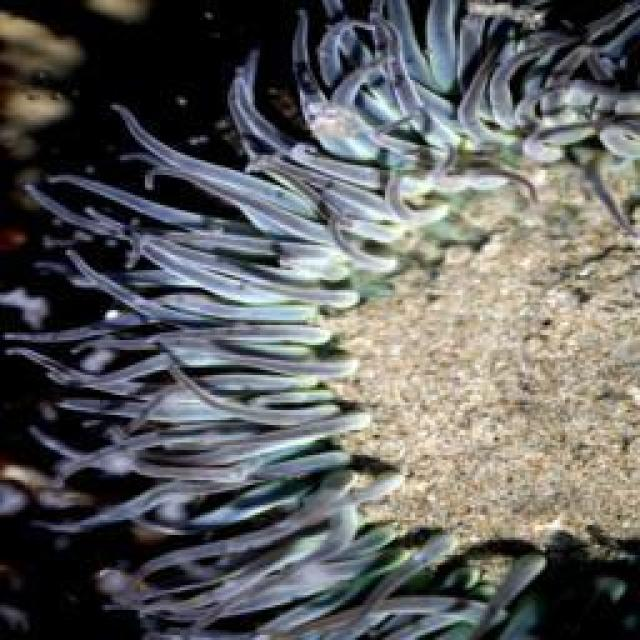reefs: (0, 1, 638, 638)
